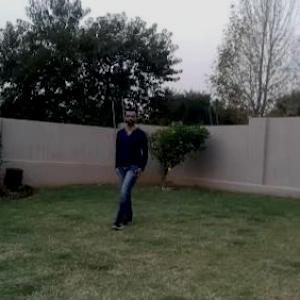follow: (112, 108, 146, 222)
